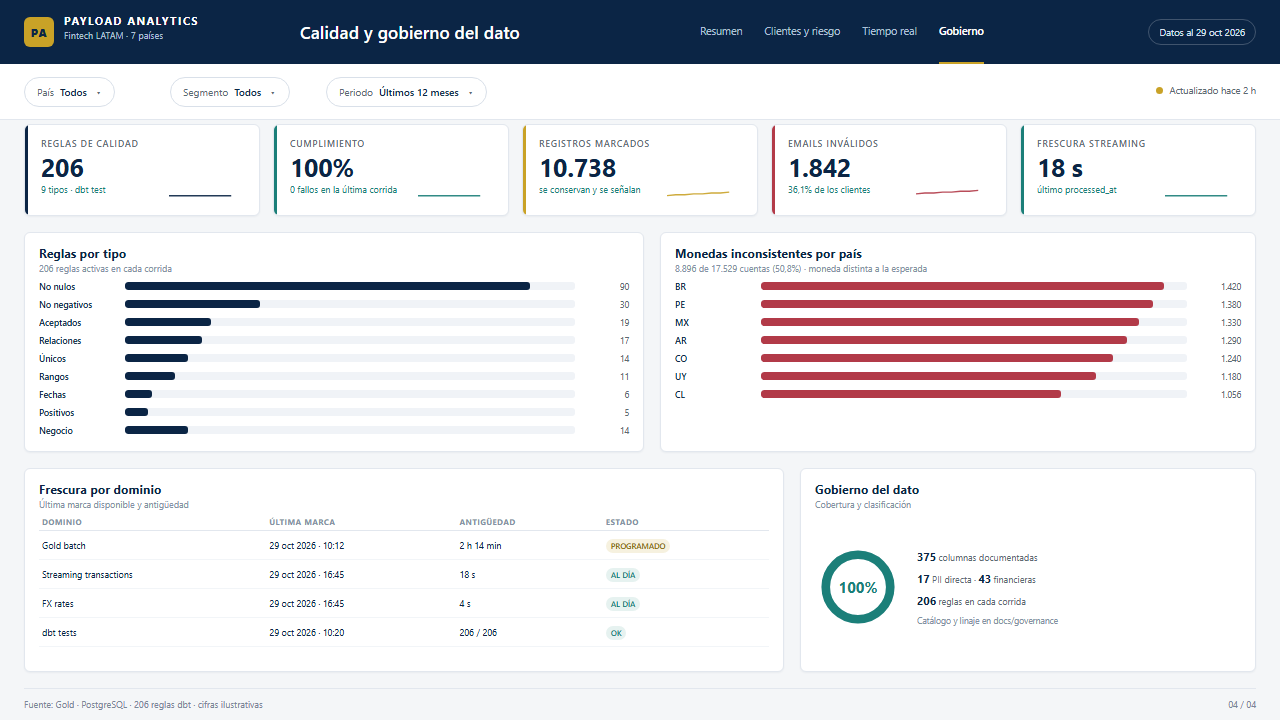

The dashboard page shown, as its layout file describes it:
{"tool":"powerbi","page":{"name":"Gobierno","canvas":[1280,720],"ordinal":3},"visuals":[{"type":"textbox","box":[0,0,1280,720],"z":0},{"type":"textbox","box":[0,64,1280,56],"z":100},{"type":"textbox","box":[24,684,1232,1],"z":100},{"type":"textbox","box":[0,119,1280,1],"z":101},{"type":"slicer","fields":{"Values":["gold dim_customer.country"]},"box":[24,77,180,32],"z":200},{"type":"slicer","fields":{"Values":["gold dim_customer.customer_segment"]},"box":[216,77,190,32],"z":200},{"type":"slicer","fields":{"Values":["gold dim_date.year"]},"box":[418,77,140,32],"z":200},{"type":"card","fields":{"Values":["Medidas.Reglas de calidad"]},"box":[24,124,236,84],"z":200},{"type":"card","fields":{"Values":["Medidas.Cumplimiento %"]},"box":[273,124,236,84],"z":200},{"type":"card","fields":{"Values":["Medidas.Registros marcados"]},"box":[522,124,236,84],"z":200},{"type":"card","fields":{"Values":["Medidas.Emails inválidos"]},"box":[771,124,236,84],"z":200},{"type":"card","fields":{"Values":["Medidas.Frescura streaming s"]},"box":[1020,124,236,84],"z":200},{"type":"pivotTable","title":"Reglas por tipo","fields":{"Rows":["ReglasCalidad.Tipo"],"Values":["Sum(ReglasCalidad.Reglas)"]},"box":[24,232,620,268],"z":200},{"type":"clusteredBarChart","title":"Monedas inconsistentes por país","fields":{"Category":["gold dim_account.country"],"Y":["Medidas.Monedas inconsistentes"]},"box":[660,232,596,268],"z":200},{"type":"card","fields":{"Values":["Medidas.Frescura FX s"]},"box":[24,508,242,164],"z":200},{"type":"card","fields":{"Values":["Medidas.Frescura batch días"]},"box":[282,508,242,164],"z":200},{"type":"card","fields":{"Values":["Medidas.Clientes con score"]},"box":[540,508,242,164],"z":200},{"type":"textbox","box":[800,508,456,164],"z":300},{"type":"textbox","box":[0,0,1280,64],"z":1000},{"type":"textbox","box":[680,16,350,32],"z":1090},{"type":"textbox","box":[24,10,230,44],"z":1100},{"type":"pageNavigator","box":[680,16,350,32],"z":1100},{"type":"textbox","box":[260,18,430,30],"z":1100},{"type":"textbox","box":[1150,21,106,22],"z":1100},{"type":"textbox","box":[960,84,296,20],"z":1100},{"type":"textbox","box":[24,694,900,16],"z":1100},{"type":"textbox","box":[1180,694,76,16],"z":1100},{"type":"textbox","box":[0,0,4,64],"z":1200}]}

Visuals, with their boxes in screenshot pixels (x1, y1, x2, y2), scaled from the page's 1280x720 canvas onto the 1280x720 screenshot:
textbox: 0 0 1279 719
textbox: 0 64 1279 120
textbox: 24 684 1256 685
textbox: 0 119 1279 120
slicer - gold dim_customer.country: 24 77 204 109
slicer - gold dim_customer.customer_segment: 216 77 406 109
slicer - gold dim_date.year: 418 77 558 109
card - Medidas.Reglas de calidad: 24 124 260 208
card - Medidas.Cumplimiento %: 273 124 509 208
card - Medidas.Registros marcados: 522 124 758 208
card - Medidas.Emails inválidos: 771 124 1007 208
card - Medidas.Frescura streaming s: 1020 124 1256 208
"Reglas por tipo" pivotTable: 24 232 644 500
"Monedas inconsistentes por país" clusteredBarChart: 660 232 1256 500
card - Medidas.Frescura FX s: 24 508 266 672
card - Medidas.Frescura batch días: 282 508 524 672
card - Medidas.Clientes con score: 540 508 782 672
textbox: 800 508 1256 672
textbox: 0 0 1279 64
textbox: 680 16 1030 48
textbox: 24 10 254 54
pageNavigator: 680 16 1030 48
textbox: 260 18 690 48
textbox: 1150 21 1256 43
textbox: 960 84 1256 104
textbox: 24 694 924 710
textbox: 1180 694 1256 710
textbox: 0 0 4 64
